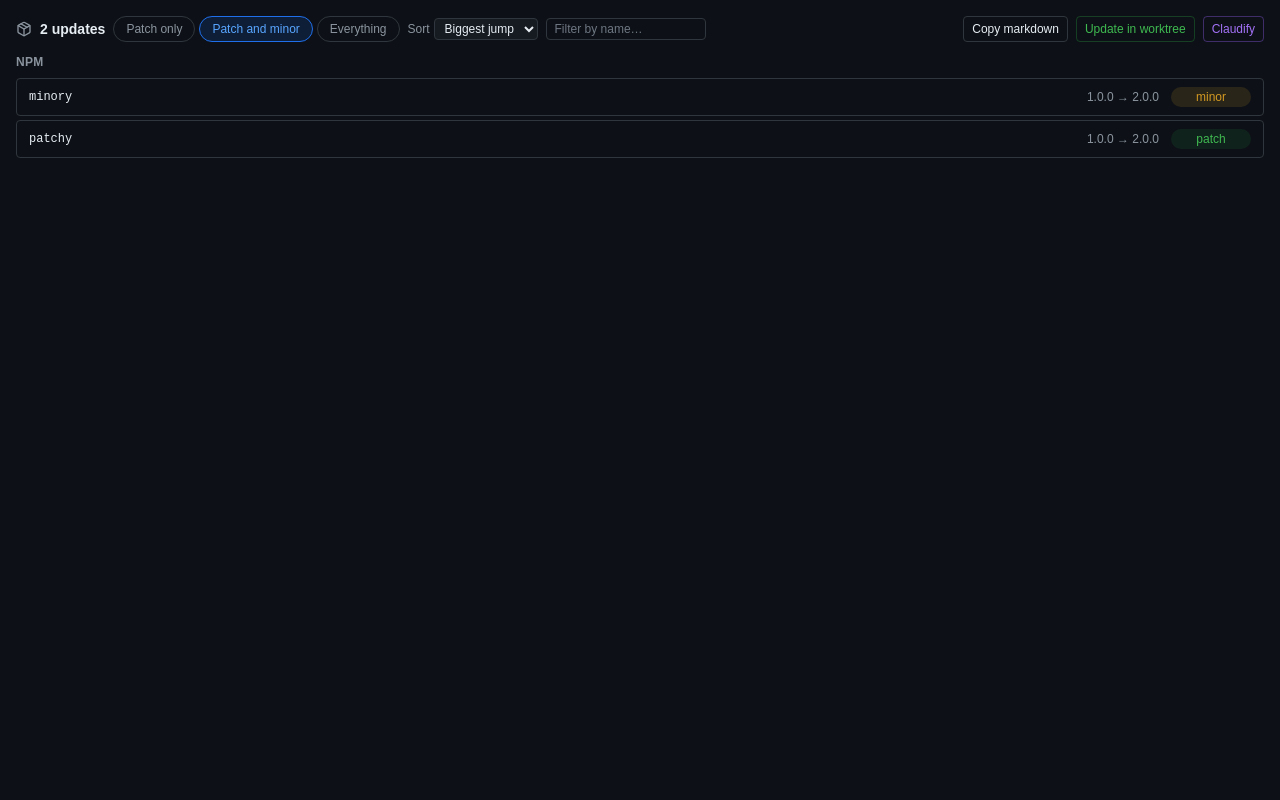
Test: the update wizard's contents › offers only what the filter is showing
The image size is (1280, 800).
Note: Default filter excludes major.
Step 1. Click the button "Update in worktree" → (1135, 29), box x1=1076 y1=16 x2=1195 y2=42
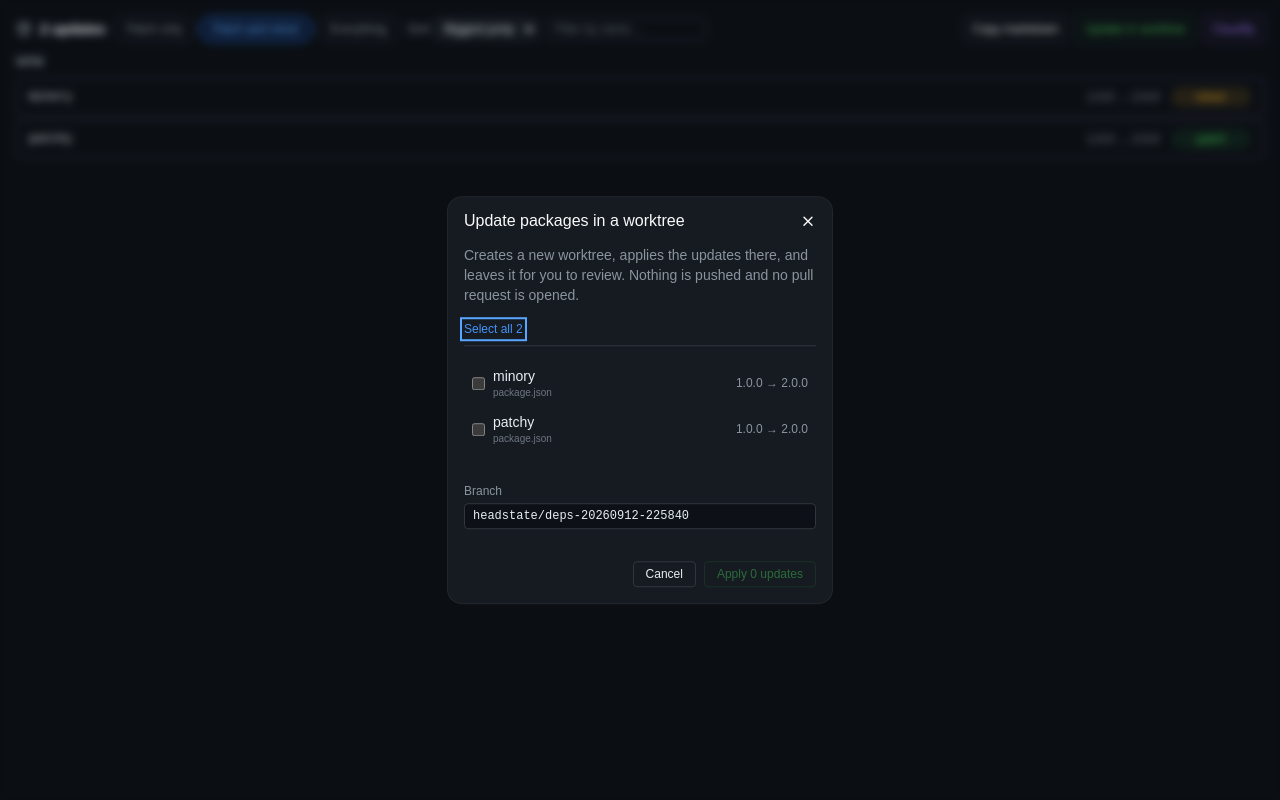
Result: the text "patchy" is shown at x1=493 y1=414 x2=534 y2=430
Result: the text "minory" is shown at x1=493 y1=368 x2=535 y2=384
